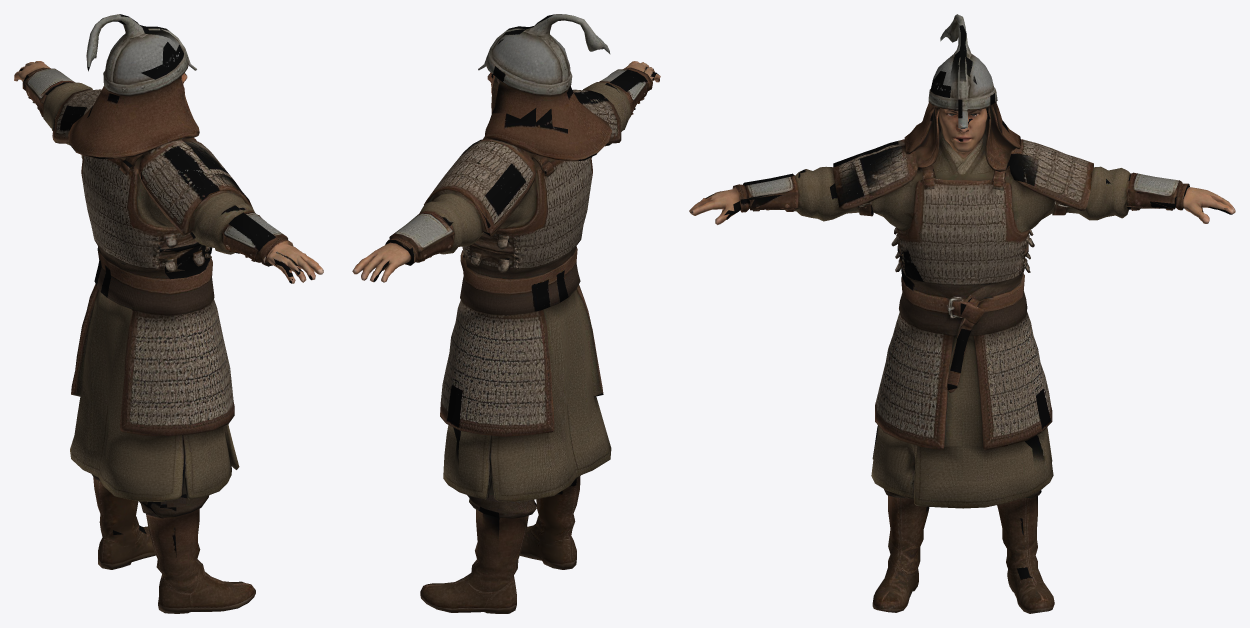
The model's file is tripo_convert_0e217662-40c2-483b-9f6e-5f6498668c72.fbx.
The picture shows the model from 3 angles, left to right: view 1: azimuth 30°, elevation 25°; view 2: azimuth 150°, elevation 25°; view 3: azimuth 270°, elevation 25°; orthographic projection. The views are drawn at different scales.
Parts seen in each view (by area): view 1: tripo_node_0e217662; view 2: tripo_node_0e217662; view 3: tripo_node_0e217662.
Part boxes in pixels (box(x1,y1,x2,y2)): tripo_node_0e217662: box(14, 14, 323, 613); tripo_node_0e217662: box(352, 14, 660, 613); tripo_node_0e217662: box(689, 14, 1235, 613).
Size of the model in its own units: 0.2559 by 0.998 by 0.8965.
1 material, 1 textured.
